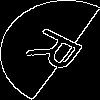R: (25, 25, 96, 79)
